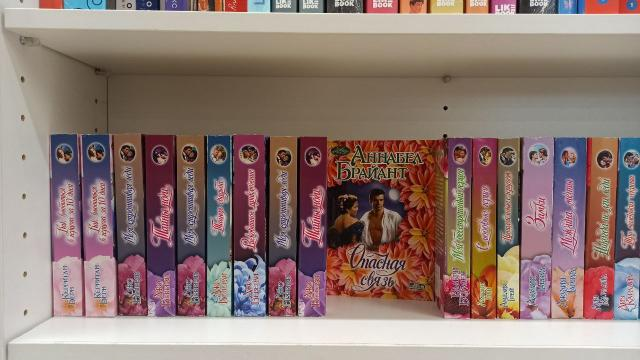book-s-spine: (520, 137, 554, 320), (552, 138, 586, 318), (81, 134, 114, 317), (49, 134, 82, 316), (114, 134, 147, 316), (585, 138, 618, 320), (234, 135, 265, 316), (145, 135, 175, 316), (298, 136, 327, 317), (444, 138, 472, 320), (177, 136, 205, 316), (269, 137, 297, 316), (614, 138, 640, 320), (472, 138, 497, 319), (207, 135, 231, 317), (497, 138, 519, 319)
